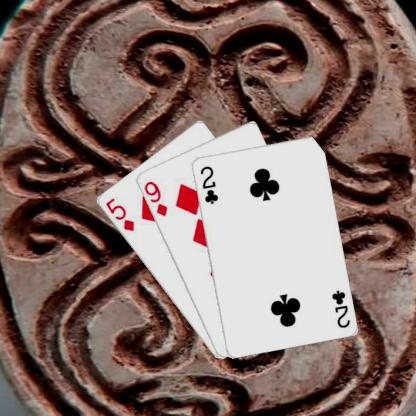2C: (329, 287, 351, 329), (198, 163, 219, 205)
5D: (103, 195, 135, 233)
9D: (141, 178, 169, 218)
